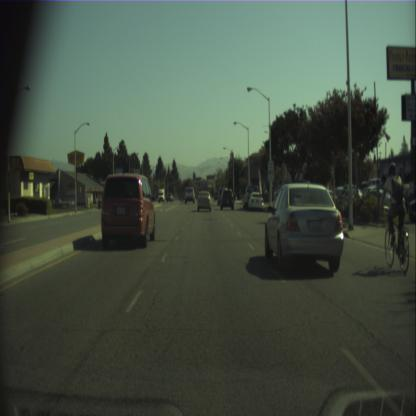GreenStraight: (208, 180, 210, 185)
Yellow: (197, 178, 199, 184)
